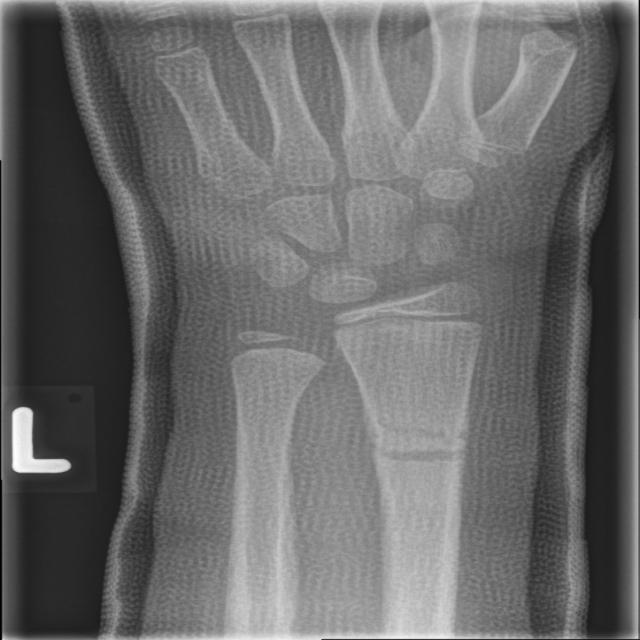radius fracture: (343, 381, 503, 522)
